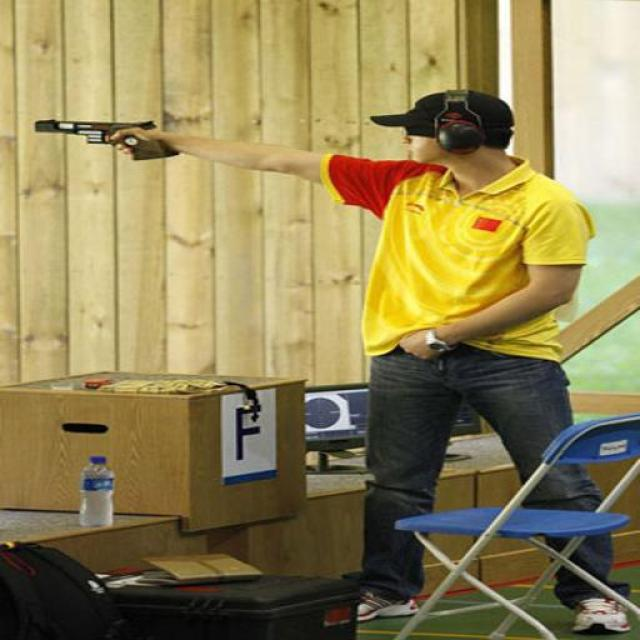pistol: (33, 118, 179, 159)
